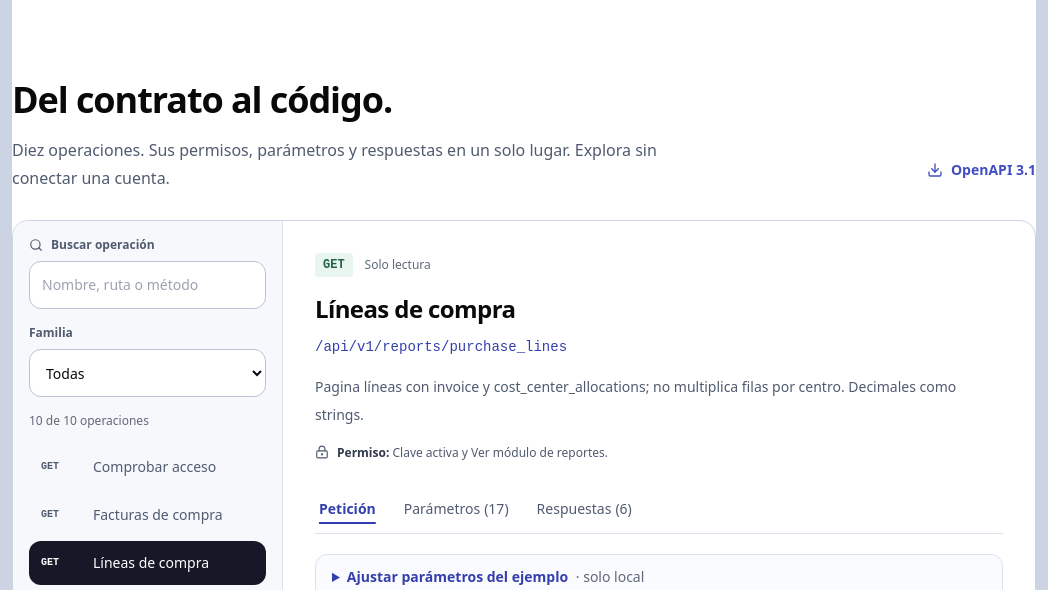
API workspace controls › searches accent-insensitively, combines family filters and recovers from no matches
This screenshot has width=1048, height=590.
Type "clasificacion" into the search field labelled "Buscar operación" at x=148, y=285, box [29, 261, 266, 309]
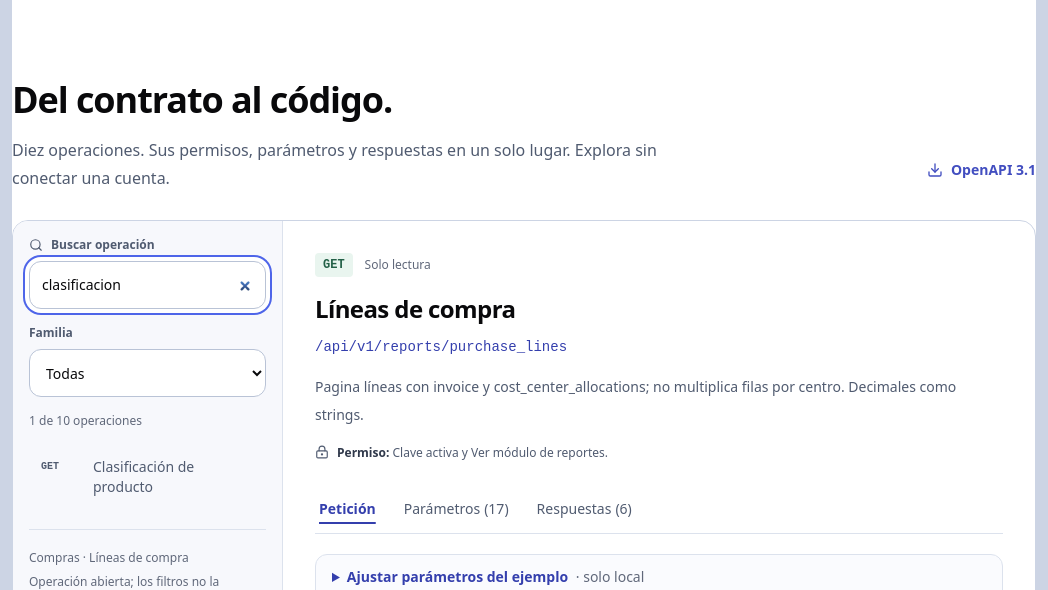
Result: the text "1 de 10 operaciones" is shown at [29, 412, 142, 429]
Select "Webhooks" in the dropdown labelled "Familia" at x=148, y=373, box [29, 349, 266, 397]
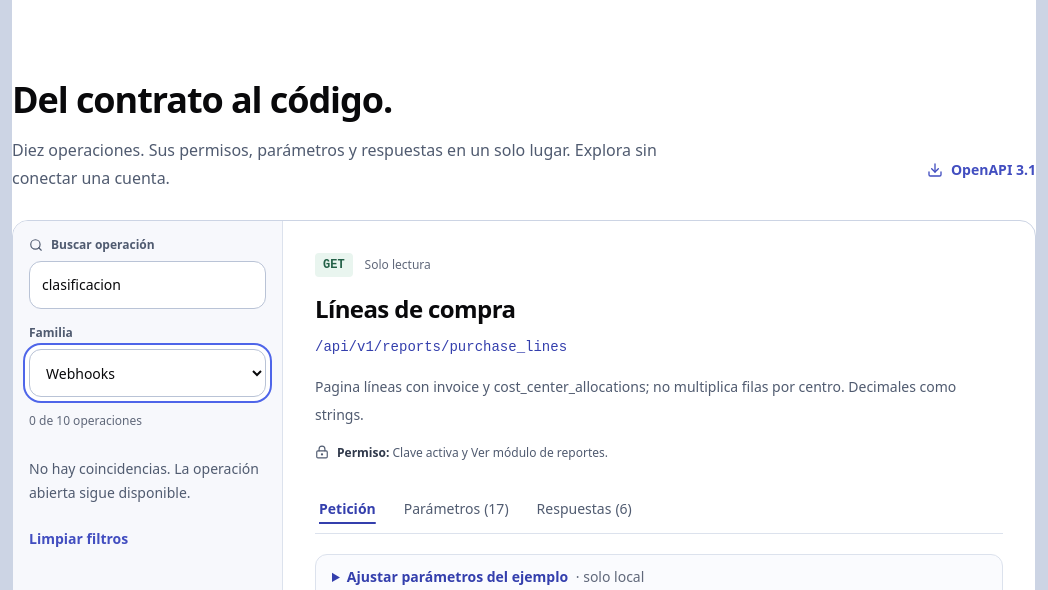
Expected: the heading "Líneas de compra" is shown, [315, 292, 515, 325]
Result: the text "0 de 10 operaciones" is shown at [29, 412, 142, 429]
Click the button "Limpiar filtros" at x=79, y=539, box [29, 517, 128, 561]
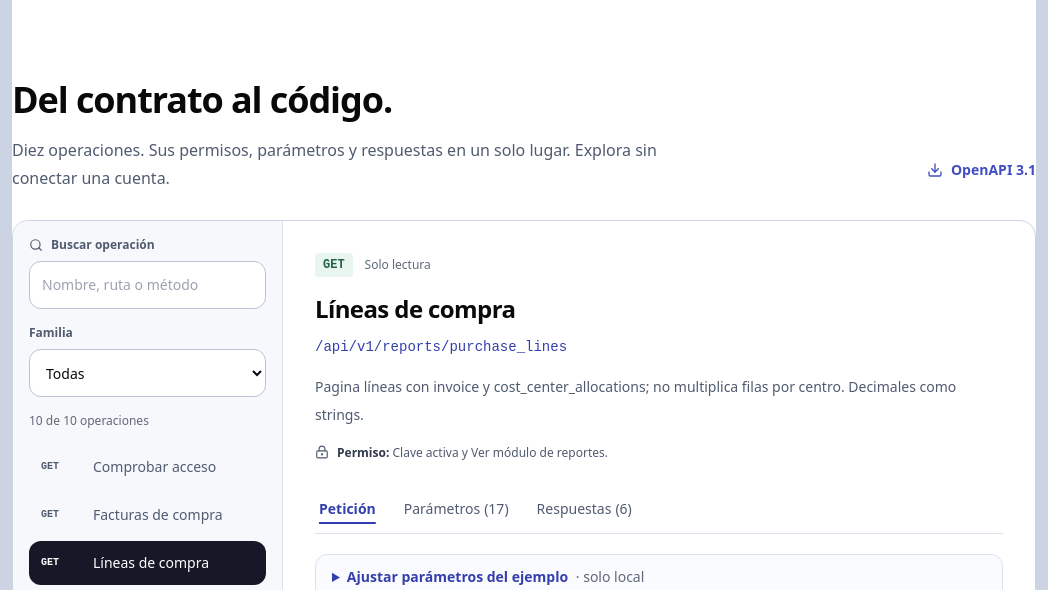
Result: the text "10 de 10 operaciones" is shown at [29, 412, 149, 429]
Type "PATCH" into the search field labelled "Buscar operación" at x=148, y=285, box [29, 261, 266, 309]
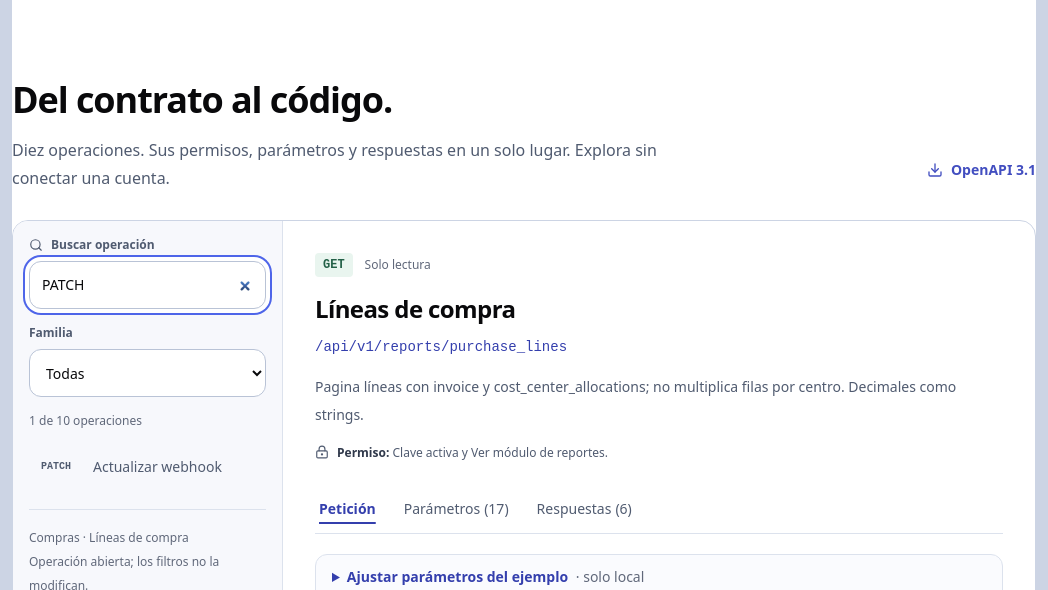
Result: the text "1 de 10 operaciones" is shown at [29, 412, 142, 429]
